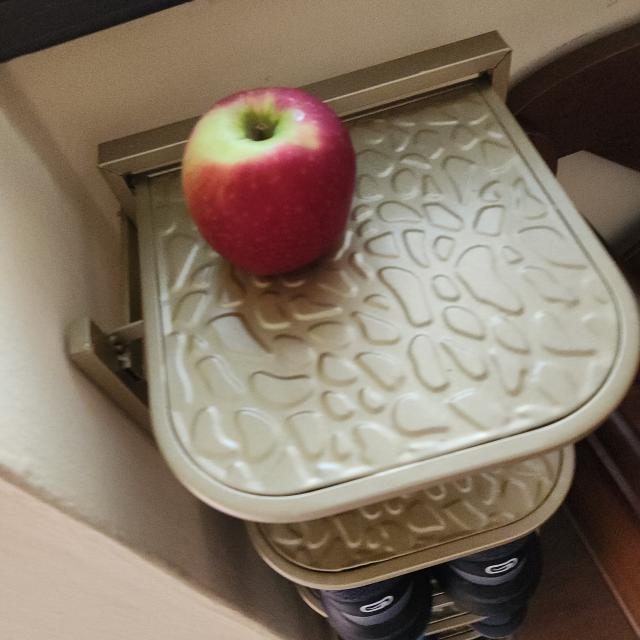apple: (180, 79, 360, 293)
